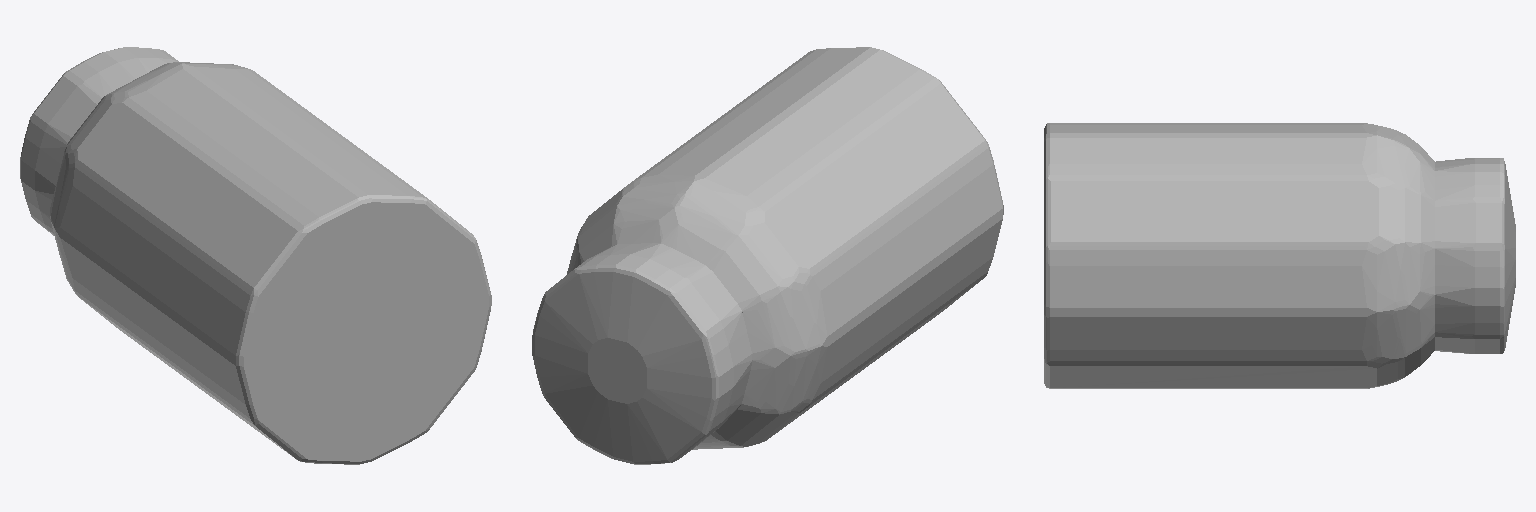
The robot description file, URDF, robot "root":
<?xml version="1.0"?>
<robot name="root">
  <link name="base_link">
    <visual>
      <origin xyz="0 0 0" rpy="0 0 0" />
      <geometry>
        <mesh filename="../meshes/unidex_core_bottle-dc005c019fbfb32c90071898148dca0e_006.obj" scale="1.0000E+00 1.0000E+00 1.0000E+00" />
      </geometry>
      <material name="">
        <color rgba="7.50E-01 7.50E-01 7.50E-01 1" />
      </material>
    </visual>
    <collision>
      <origin xyz="0 0 0" rpy="0 0 0" />
      <geometry>
        <mesh filename="../meshes/unidex_core_bottle-dc005c019fbfb32c90071898148dca0e_006.obj" scale="1.0000E+00 1.0000E+00 1.0000E+00" />
      </geometry>
    </collision>
  </link>
</robot>

--- Render facts (derived) ---
Views: 3 orthographic renders of the robot side by side, from view 1: azimuth 30°, elevation 25°; view 2: azimuth 150°, elevation 25°; view 3: azimuth 270°, elevation 25°.
Robot: root — 1 links, 0 joints (none); root link base_link; default pose: all joints at 0.
Visible links, largest first — view 1: base_link; view 2: base_link; view 3: base_link.
Link boxes in pixels (x1=…): base_link: x1=20, y1=47, x2=491, y2=464; base_link: x1=532, y1=47, x2=1003, y2=464; base_link: x1=1044, y1=123, x2=1515, y2=388.
Size in the robot's own frame: 0.058 by 0.1027 by 0.058 metres.
Meshes: 1 distinct files referenced, 1 mesh visuals loaded (1 OBJ).
